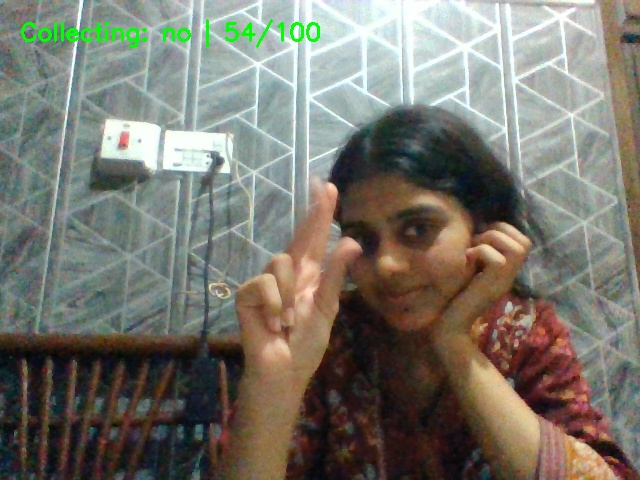no: (237, 170, 385, 390)
